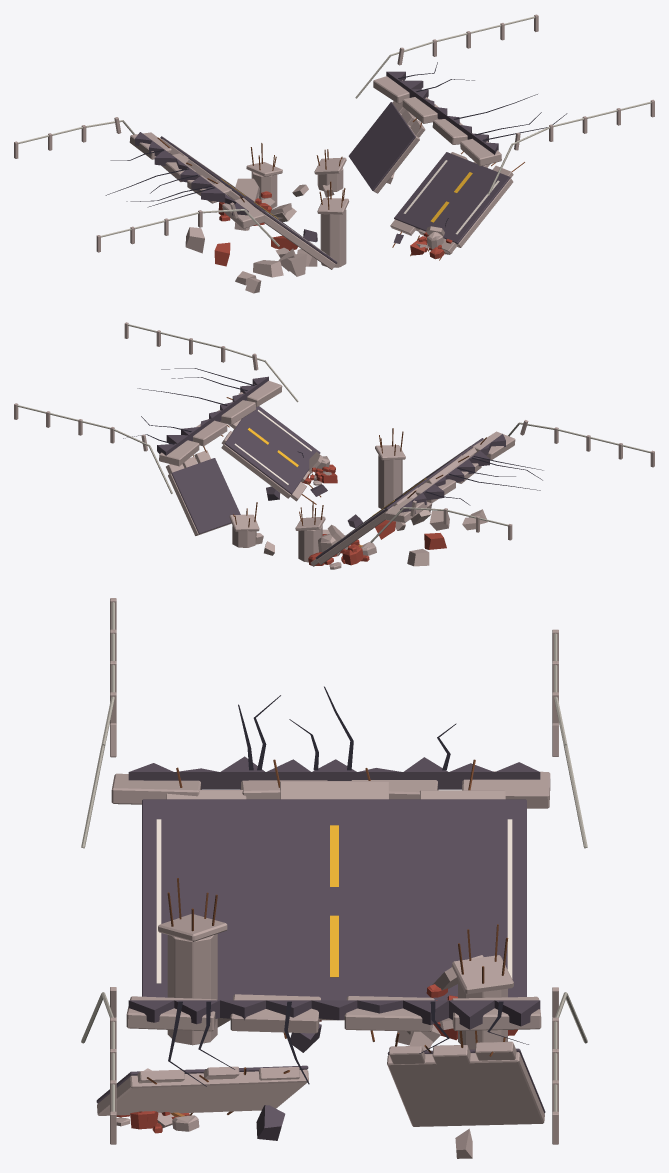
The picture shows the model from 3 angles, top to bottom: view 1: azimuth 30°, elevation 25°; view 2: azimuth 150°, elevation 25°; view 3: azimuth 270°, elevation 25°; orthographic projection. The views are drawn at different scales.
Parts seen in each view (by area): view 1: static_pal_sidewalk, static_pal_asphalt, static_pal_silver, static_pal_brick, static_pal_uiDark, static_pal_leatherShadow, static_pal_picketWhite; view 2: static_pal_sidewalk, static_pal_asphalt, static_pal_brick, static_pal_silver, static_pal_uiDark, static_pal_leatherShadow, static_pal_picketWhite; view 3: static_pal_asphalt, static_pal_sidewalk, static_pal_silver, static_pal_uiDark, static_pal_picketWhite, static_pal_leatherShadow, static_pal_brick, static_pal_schoolBusYellow.
Part boxes in pixels (<box>): static_pal_sidewalk: <box>14,14,654,293</box>; static_pal_asphalt: <box>135,71,510,263</box>; static_pal_silver: <box>18,16,651,246</box>; static_pal_brick: <box>214,191,452,266</box>; static_pal_uiDark: <box>105,62,567,226</box>; static_pal_leatherShadow: <box>157,118,524,260</box>; static_pal_picketWhite: <box>172,143,499,253</box>; static_pal_sidewalk: <box>14,322,654,569</box>; static_pal_asphalt: <box>157,376,505,559</box>; static_pal_brick: <box>302,464,446,566</box>; static_pal_silver: <box>17,324,650,542</box>; static_pal_uiDark: <box>123,368,543,505</box>; static_pal_leatherShadow: <box>193,397,486,527</box>; static_pal_picketWhite: <box>234,410,471,549</box>; static_pal_asphalt: <box>96,756,545,1140</box>; static_pal_sidewalk: <box>97,598,558,1158</box>; static_pal_silver: <box>81,602,587,1111</box>; static_pal_uiDark: <box>168,686,528,1086</box>; static_pal_picketWhite: <box>156,819,512,983</box>; static_pal_leatherShadow: <box>147,759,508,1115</box>; static_pal_brick: <box>116,984,517,1133</box>; static_pal_schoolBusYellow: <box>330,825,338,977</box>.
Size of the model in its own units: 36.2 by 7.17 by 15.01.
